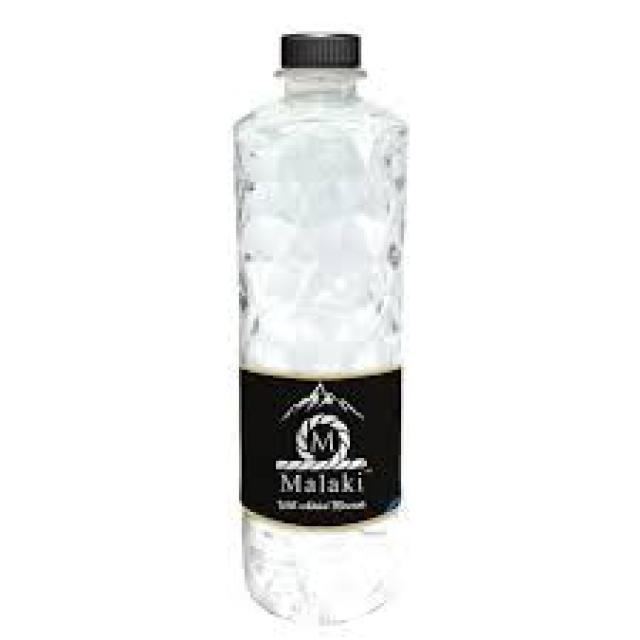bottle: (168, 18, 442, 628)
